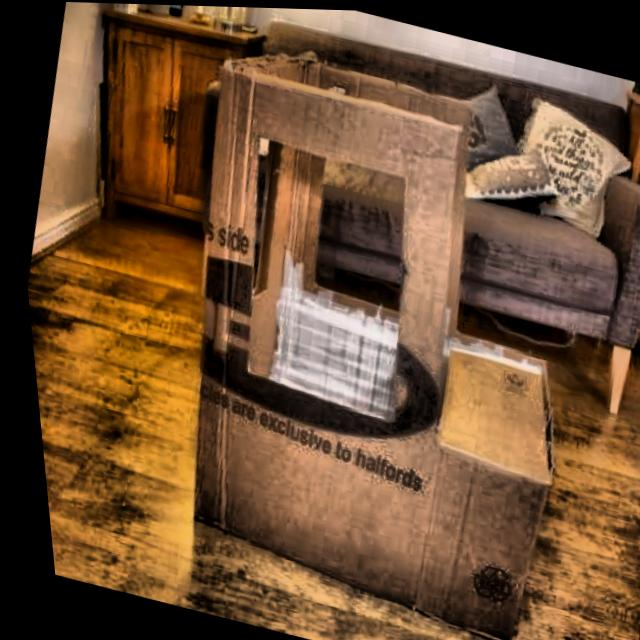Cardbox: (83, 8, 640, 640)
